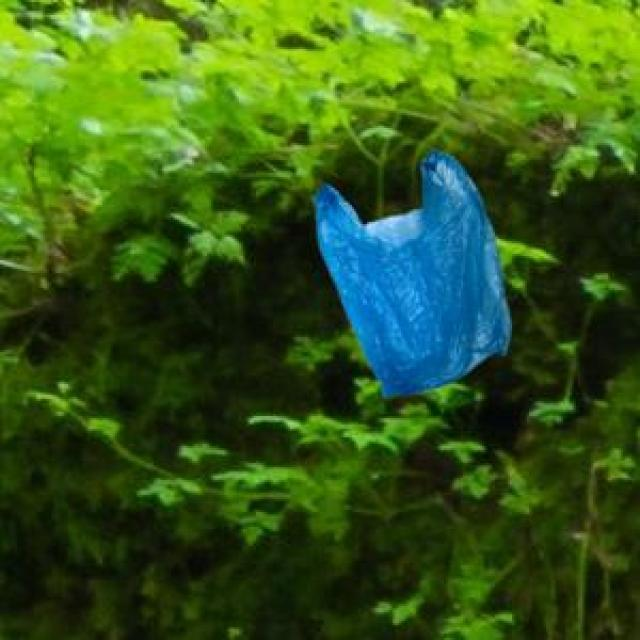waste: (315, 152, 510, 396)
